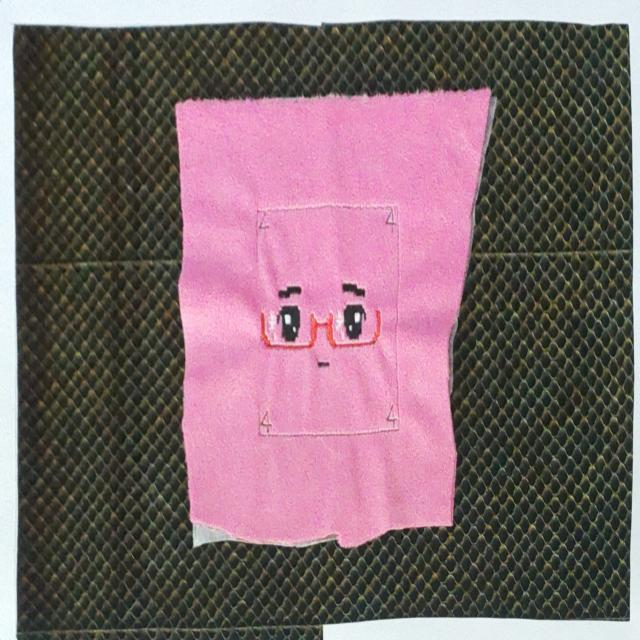4 -: (383, 401, 396, 431), (384, 208, 398, 234), (259, 407, 272, 433), (259, 215, 271, 242)
